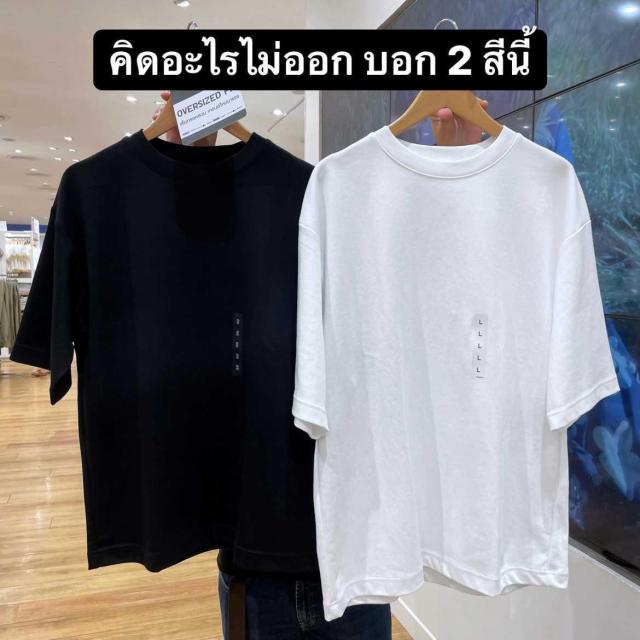Tshirt: (301, 114, 624, 614), (13, 126, 305, 574)
